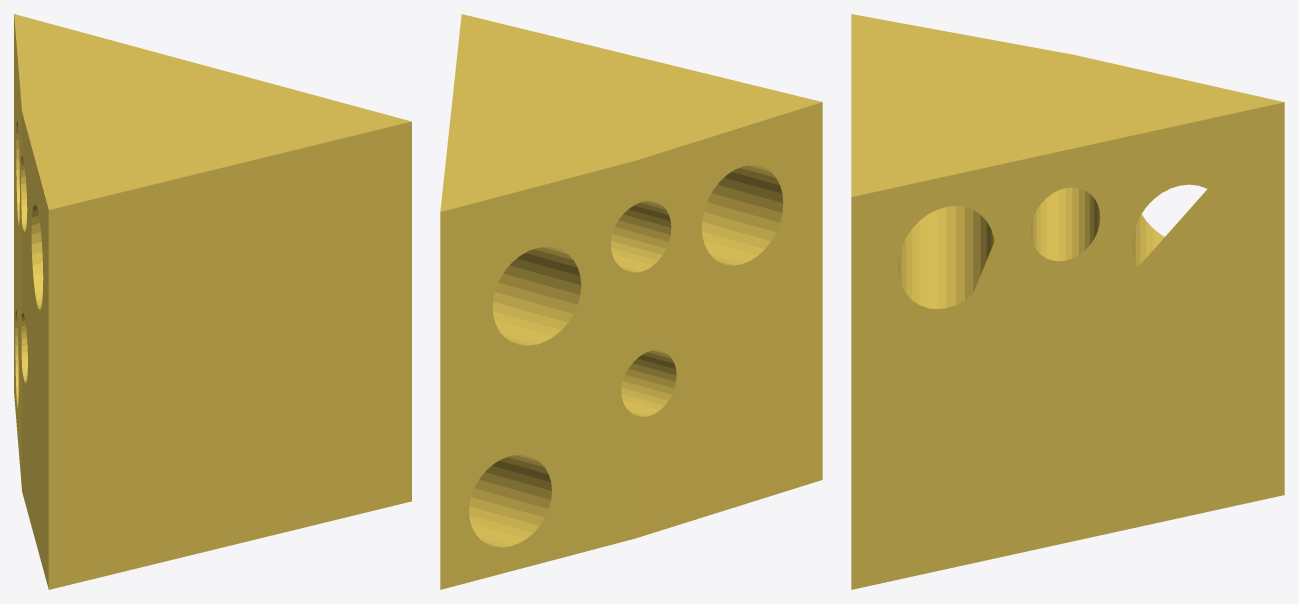
Rendered from cheese.fbx.
3 renders of one model, left to right at view 1: azimuth 30°, elevation 25°; view 2: azimuth 150°, elevation 25°; view 3: azimuth 270°, elevation 25°, orthographic. The views are drawn at different scales.
Parts seen in each view (by area): view 1: Cube; view 2: Cube; view 3: Cube.
Boxes of the visible parts, bbox=[...] form: Cube: bbox=[14, 14, 411, 589]; Cube: bbox=[440, 14, 822, 589]; Cube: bbox=[851, 14, 1284, 589].
Bounding box in the file's own units: 200 × 200 × 200.
